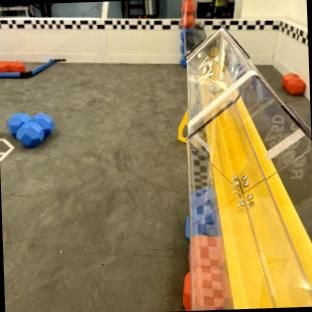V5_BLUE: (8, 113, 54, 147)
V5_RED: (282, 73, 305, 94), (184, 273, 190, 310)
